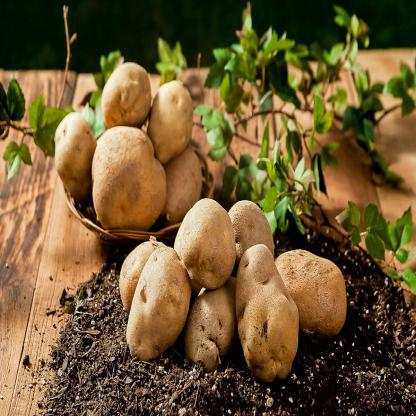potato: (84, 123, 178, 243), (120, 244, 204, 372), (270, 235, 351, 352), (233, 246, 296, 382), (174, 185, 238, 292), (136, 80, 200, 176), (93, 56, 158, 140), (48, 119, 102, 194), (228, 200, 278, 280)
